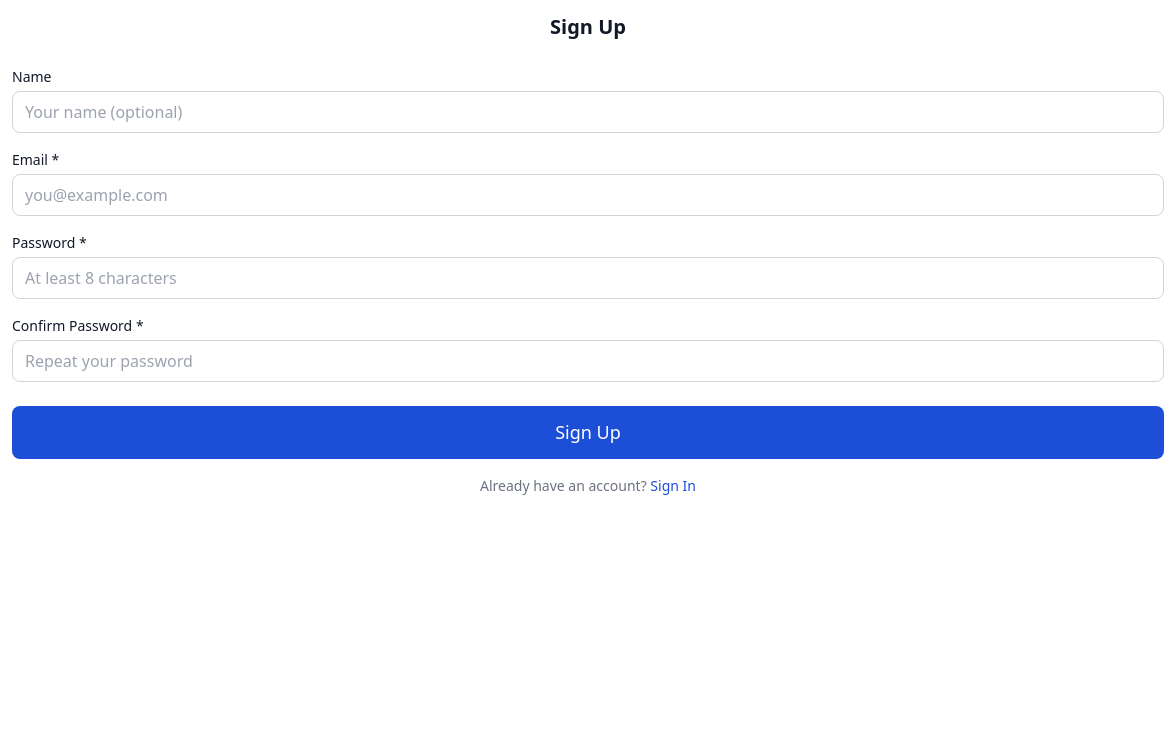
Test case: sign-up page › displays error message when signUp fails
The width and height of the screenshot is (1176, 732).
In the field with id "sign-up-email": coordinates (588, 195) [12,174,1164,216], type "user@example.com"
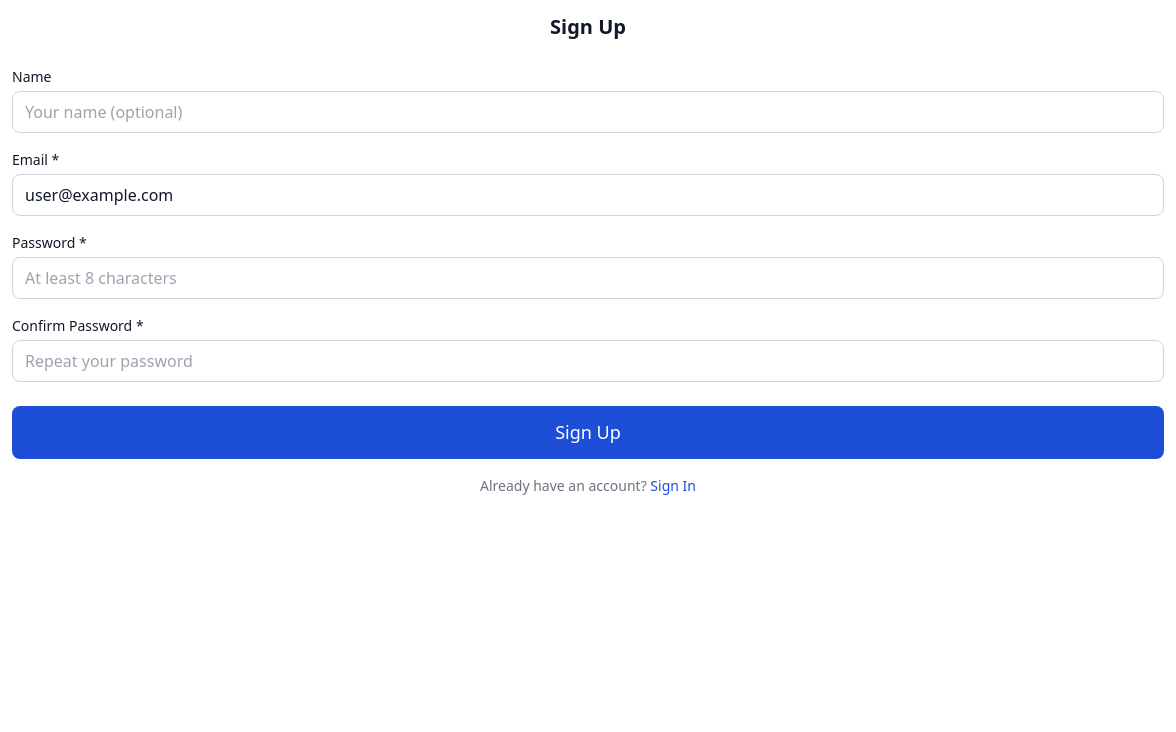
In the password field with id "sign-up-password": coordinates (588, 278) [12,257,1164,299], type "password123"
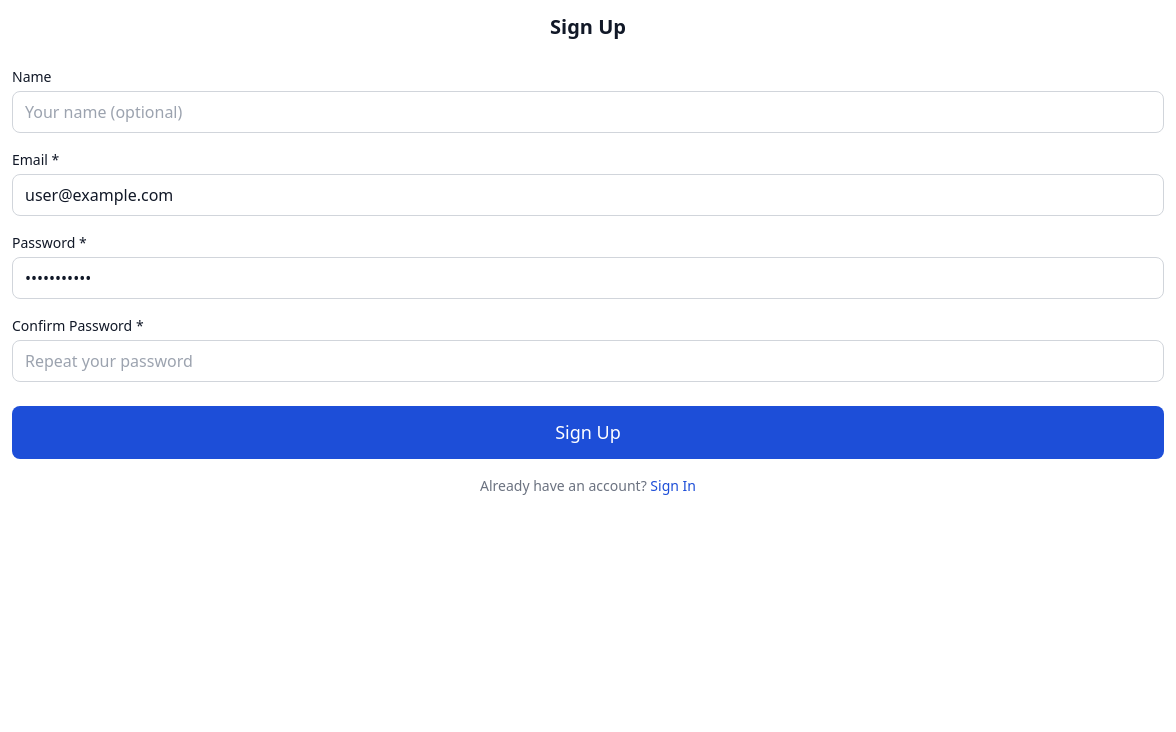
In the password field with id "sign-up-confirm-password": coordinates (588, 361) [12,340,1164,382], type "password123"
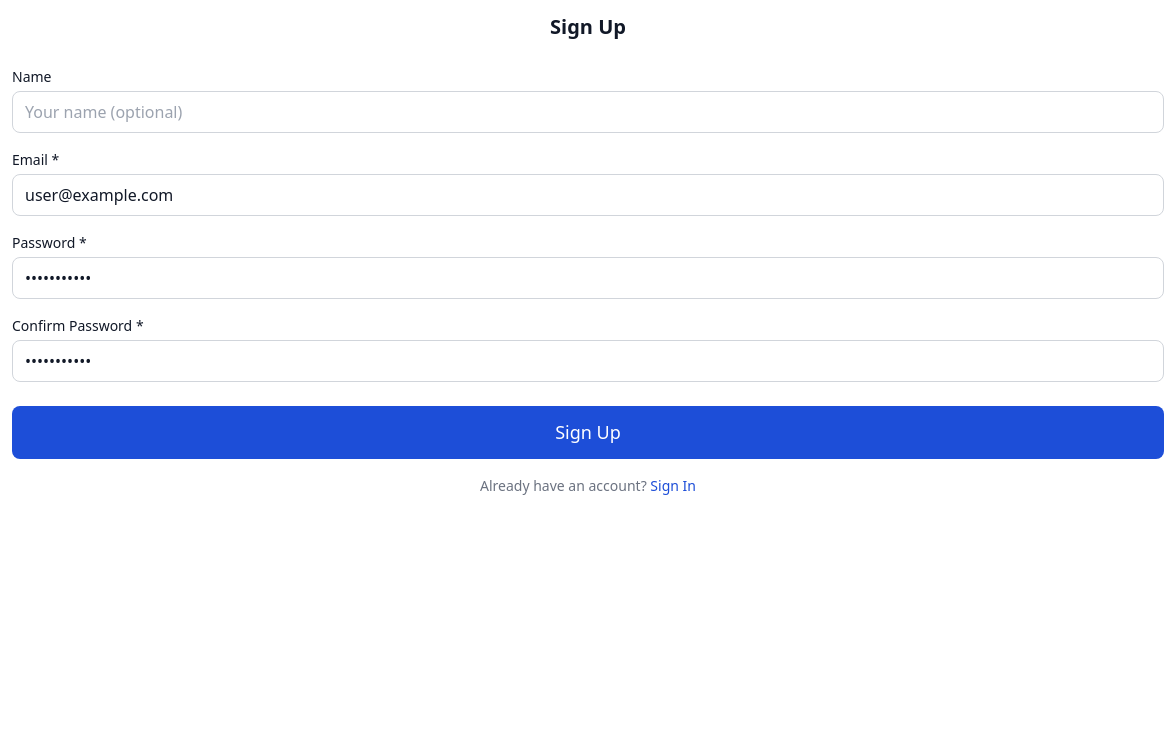
Submit the form, box [12,66,1164,459]
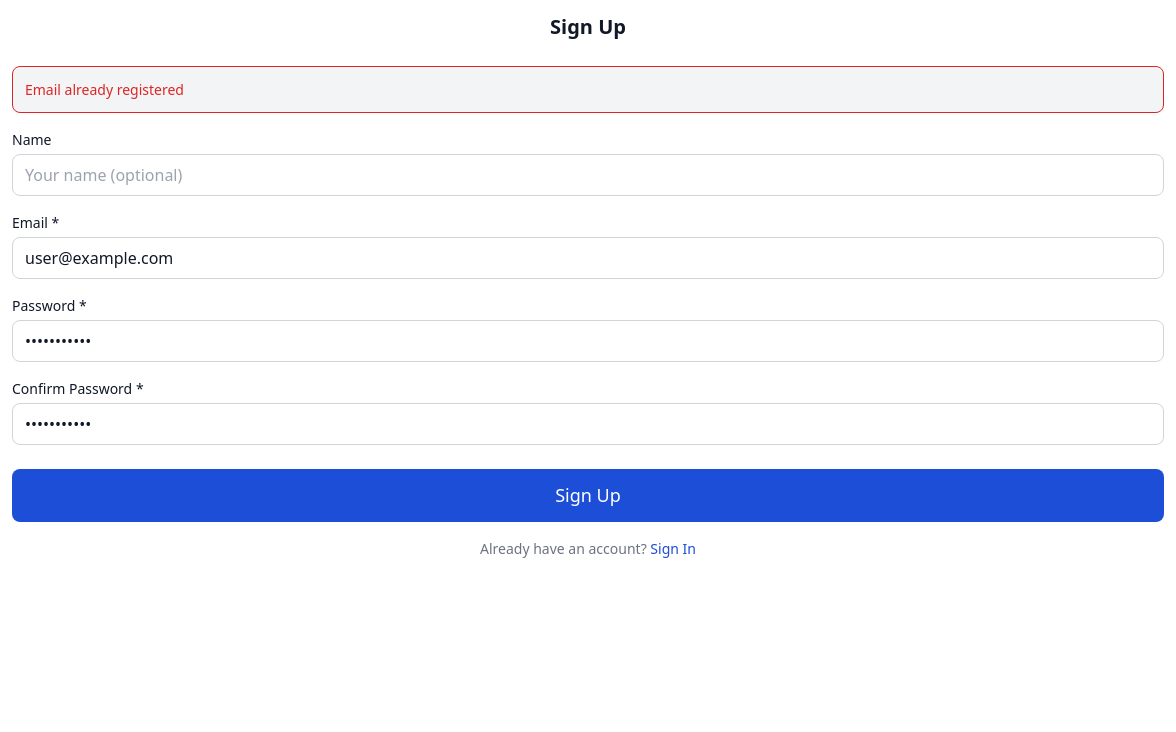
Now the text "Email already registered" is shown, box [12,66,1164,113]
